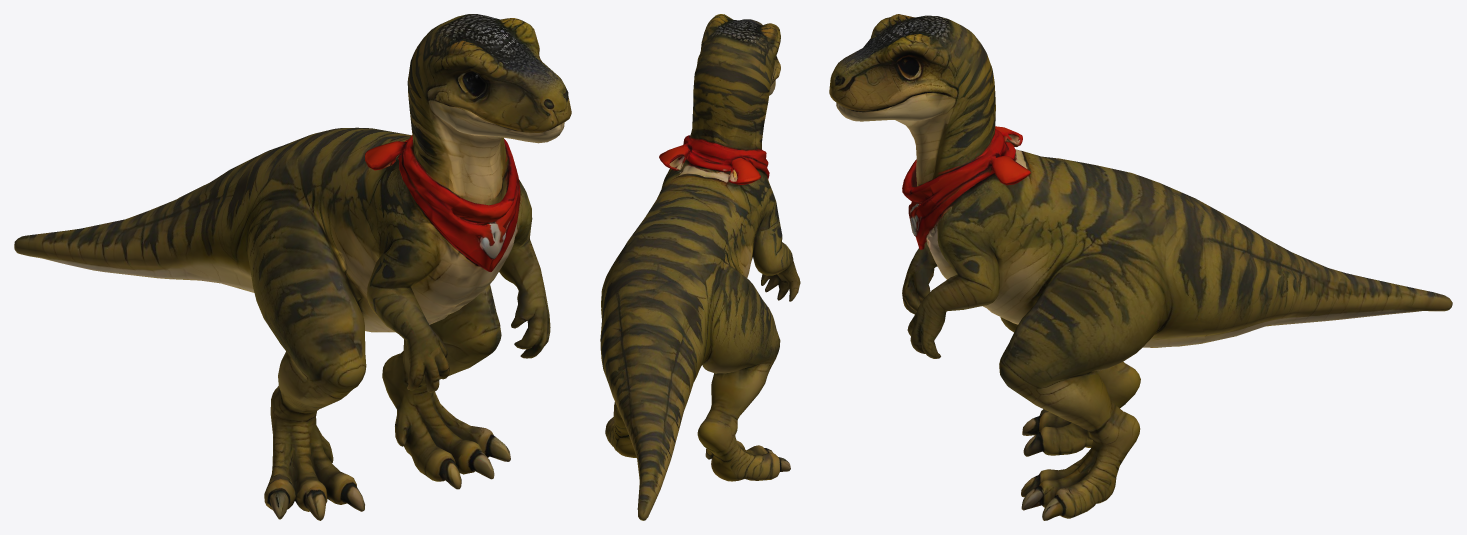
File: chichi.glb
3 views of the same model, side by side, from view 1: azimuth 30°, elevation 25°; view 2: azimuth 150°, elevation 25°; view 3: azimuth 270°, elevation 25° (orthographic). The views are drawn at different scales.
Parts seen in each view (by area): view 1: tripo_node_442b0ac8-1ddb-4f2b-b8bf-62da1ecaefd3; view 2: tripo_node_442b0ac8-1ddb-4f2b-b8bf-62da1ecaefd3; view 3: tripo_node_442b0ac8-1ddb-4f2b-b8bf-62da1ecaefd3.
Part boxes in pixels (x1=…): tripo_node_442b0ac8-1ddb-4f2b-b8bf-62da1ecaefd3: x1=14, y1=14, x2=571, y2=520; tripo_node_442b0ac8-1ddb-4f2b-b8bf-62da1ecaefd3: x1=600, y1=14, x2=800, y2=520; tripo_node_442b0ac8-1ddb-4f2b-b8bf-62da1ecaefd3: x1=829, y1=14, x2=1452, y2=520.
Bounding box in the file's own units: 0.4476 × 0.8146 × 0.9989.
Materials: 1 (1 with a texture image).
